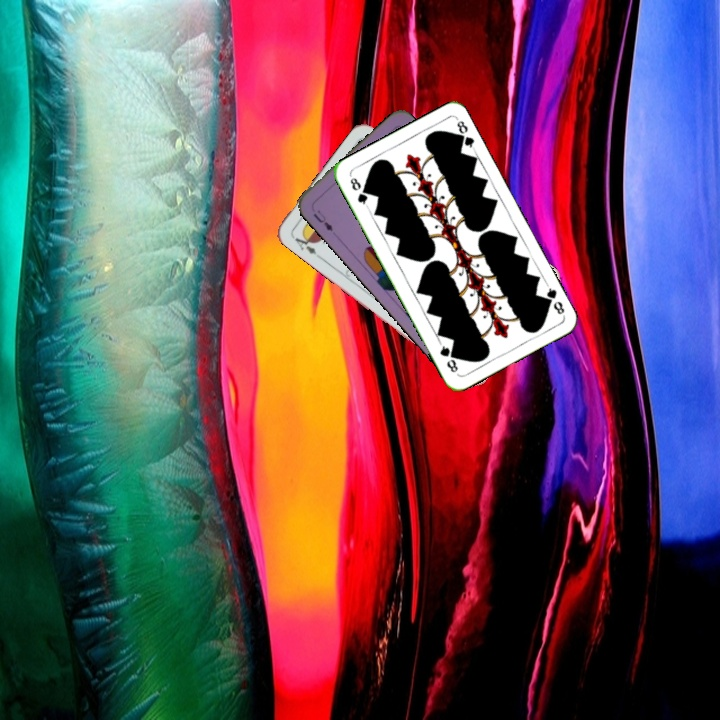EA: (288, 229, 319, 257)
EU: (309, 206, 336, 234)
G8: (539, 280, 567, 318), (346, 173, 371, 210)
